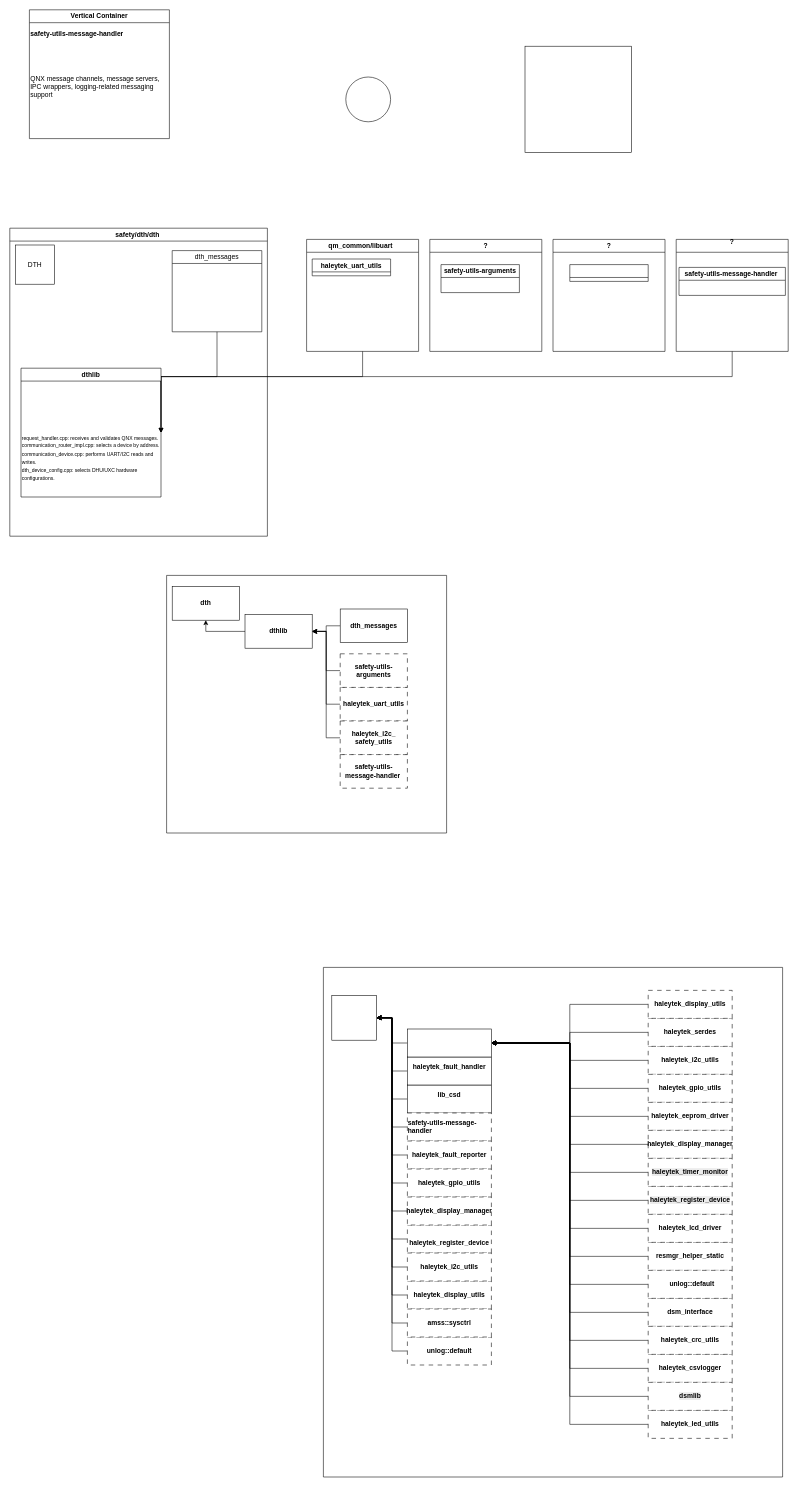
This 798x1487 diagram has some shape labels left out. Here are the shapes that lost their labels. From the top down, the centre of each, then its label:
At point (577, 99): "fault_handler_d".
At point (608, 272): "haleytek_i2c_safety_utils".
At point (354, 1017): "cds_dim_d".
At point (449, 1042): "alp_2220_564_s3_dim".
